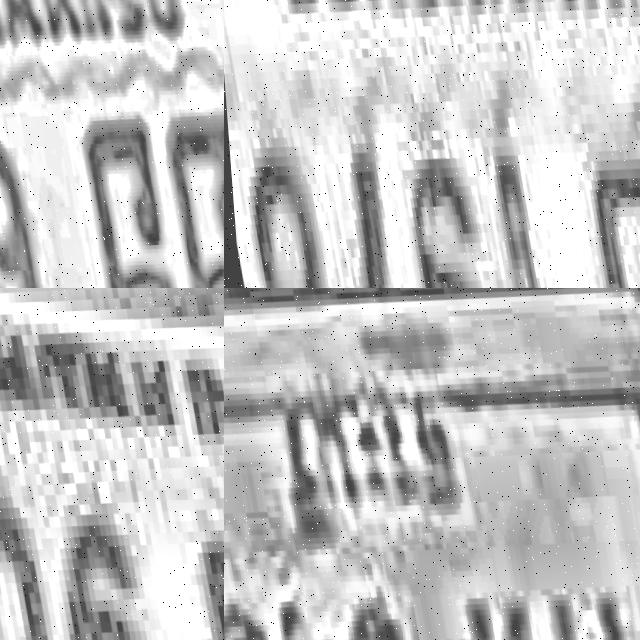license-plate: (224, 288, 640, 640), (224, 0, 640, 288), (0, 288, 224, 640), (0, 0, 224, 288)
